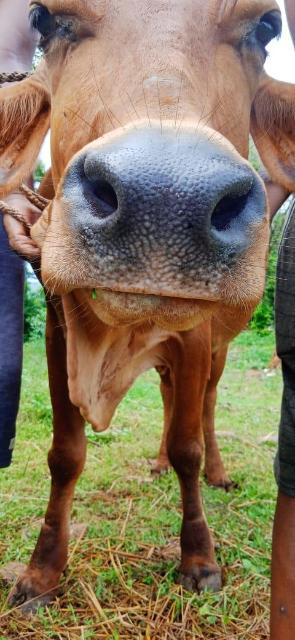Muzzle: (80, 145, 262, 281)
